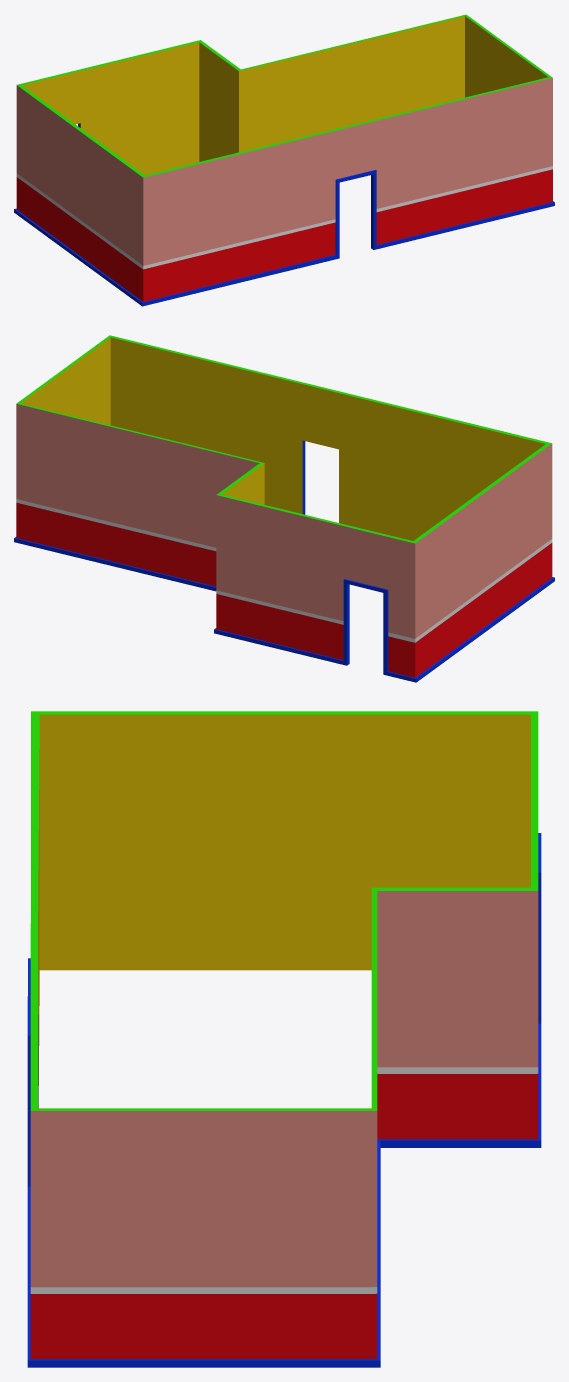
Rendered from walls_hallway_inside.fbx.
3 views of the same model, one above another, from view 1: azimuth 30°, elevation 25°; view 2: azimuth 150°, elevation 25°; view 3: azimuth 270°, elevation 25° (orthographic). The views are drawn at different scales.
Parts seen in each view (by area): view 1: Cube.016, Cube.001, Cube.012, Cube.017, Cube.014; view 2: Cube.016, Cube.001, Cube.012, Cube.017, Cube.014; view 3: Cube.001, Cube.016, Cube.012, Cube.017, Cube.014.
Part boxes in pixels (left/top/right/bottom): Cube.016: left=16, top=78, right=552, bottom=265; Cube.001: left=17, top=14, right=552, bottom=177; Cube.012: left=16, top=169, right=552, bottom=301; Cube.017: left=14, top=123, right=554, bottom=306; Cube.014: left=16, top=166, right=552, bottom=269; Cube.016: left=16, top=404, right=552, bottom=638; Cube.001: left=16, top=335, right=551, bottom=591; Cube.012: left=16, top=352, right=552, bottom=677; Cube.017: left=14, top=440, right=554, bottom=682; Cube.014: left=16, top=499, right=552, bottom=642; Cube.001: left=30, top=711, right=538, bottom=1287; Cube.016: left=30, top=891, right=538, bottom=1287; Cube.012: left=30, top=1073, right=538, bottom=1359; Cube.017: left=27, top=833, right=541, bottom=1367; Cube.014: left=30, top=1067, right=538, bottom=1293.
Bounding box in the file's own units: 1141 × 338 × 615.
